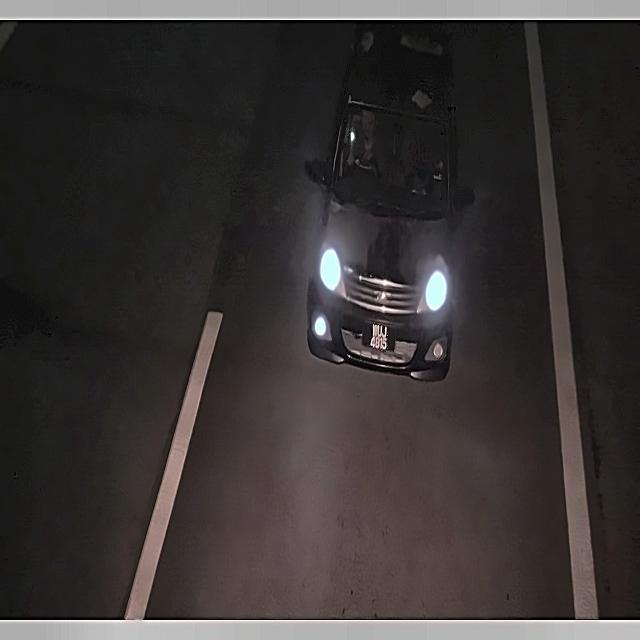car: (363, 317, 400, 358)
